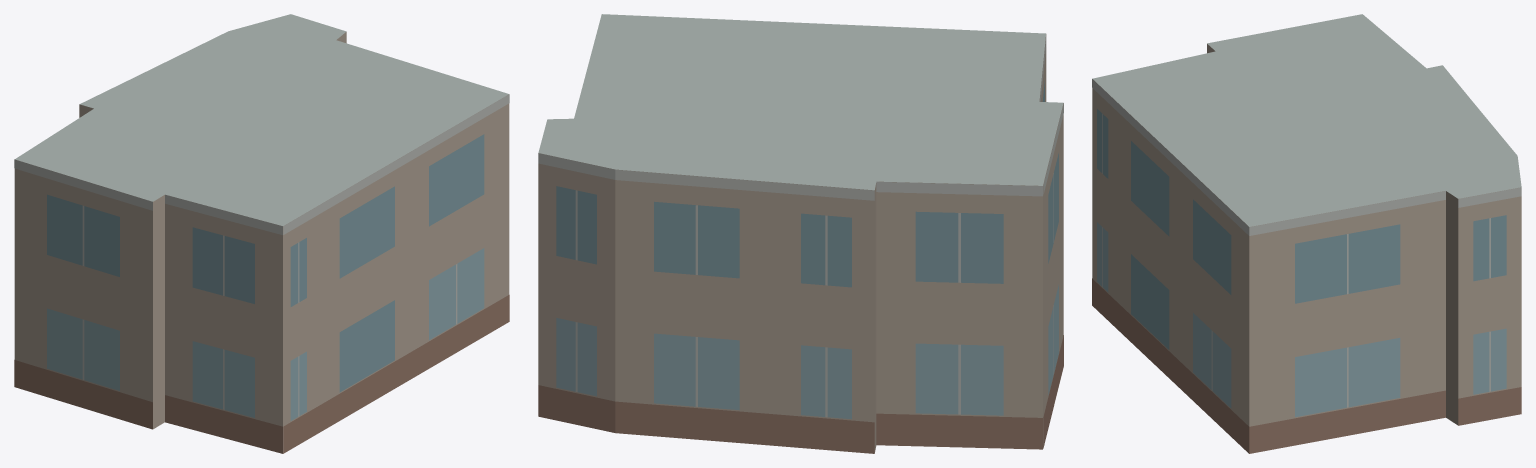
File: survey-upis-32902342.glb
3 views of the same model, side by side, from view 1: azimuth 30°, elevation 25°; view 2: azimuth 150°, elevation 25°; view 3: azimuth 270°, elevation 25° (orthographic). The views are drawn at different scales.
Parts seen in each view (by area): view 1: survey-upis-32902342.tmp; view 2: survey-upis-32902342.tmp; view 3: survey-upis-32902342.tmp.
Boxes of the visible parts, x1=… form: survey-upis-32902342.tmp: x1=14, y1=14, x2=509, y2=453; survey-upis-32902342.tmp: x1=538, y1=14, x2=1063, y2=453; survey-upis-32902342.tmp: x1=1092, y1=14, x2=1521, y2=453.
Size of the model in its own units: 12.29 by 6.1 by 10.48.
